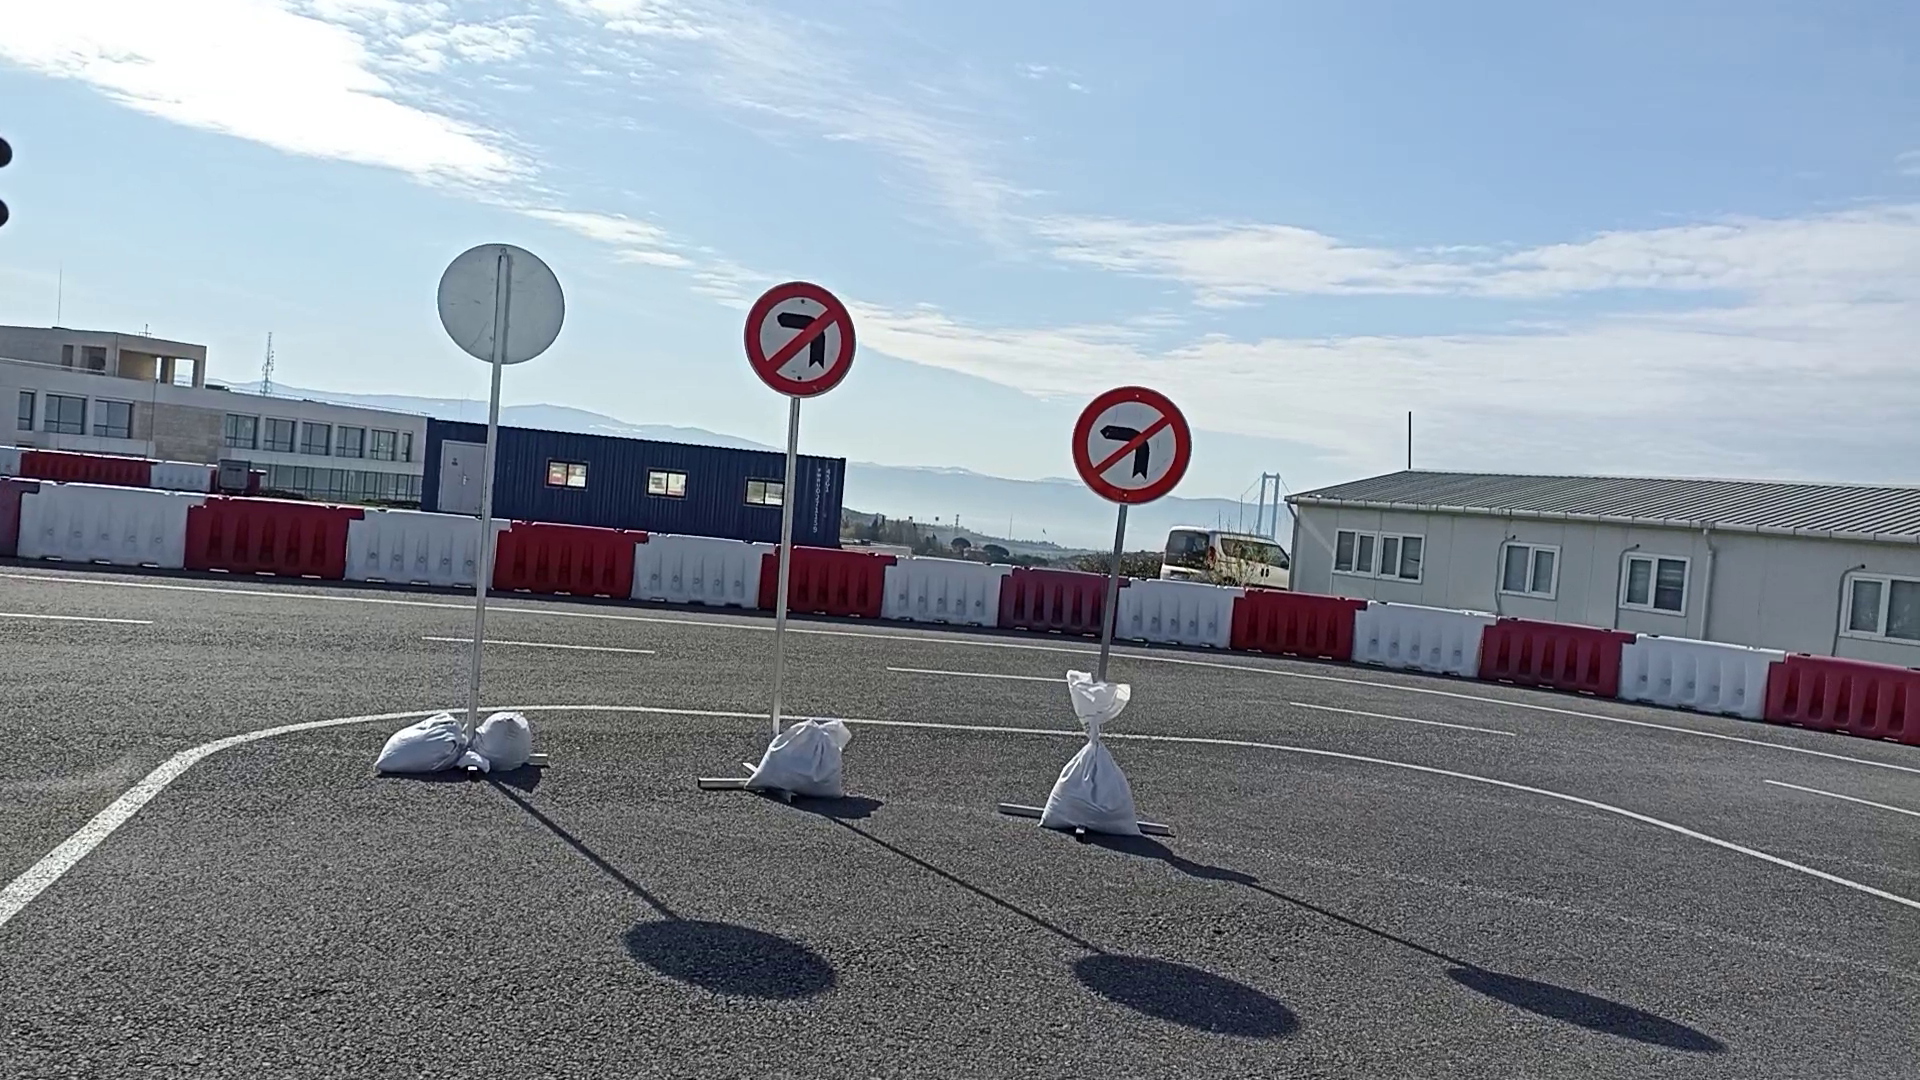noleft: (1069, 382, 1196, 506), (740, 280, 858, 401)
